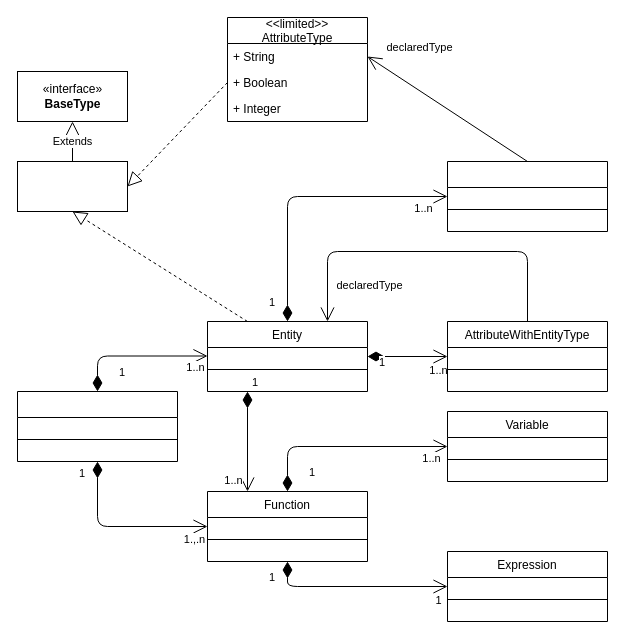
Image size: 625x639. Some labels were removed from this diagram. Each missing label, with the centre of its shape:
Attribute: the point at 527,196
EntityModelUnit: the point at 97,426
«interface» Type: the point at 72,186
